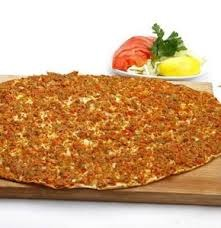lahmacun: (0, 73, 220, 188)
